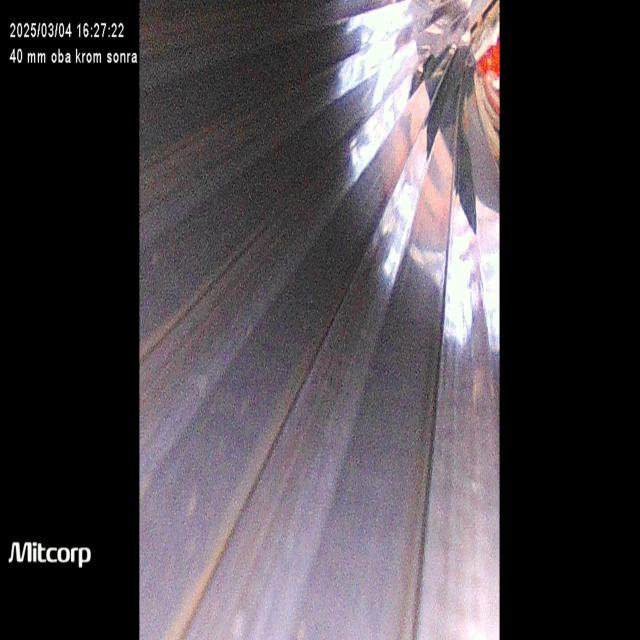hata_8.1: (420, 471, 494, 640)
